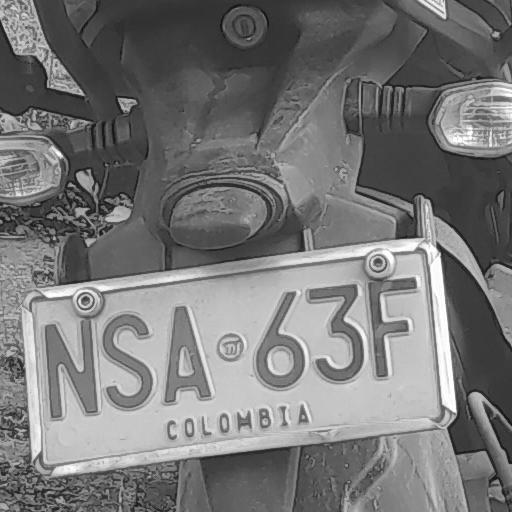placa: (20, 242, 450, 464)
